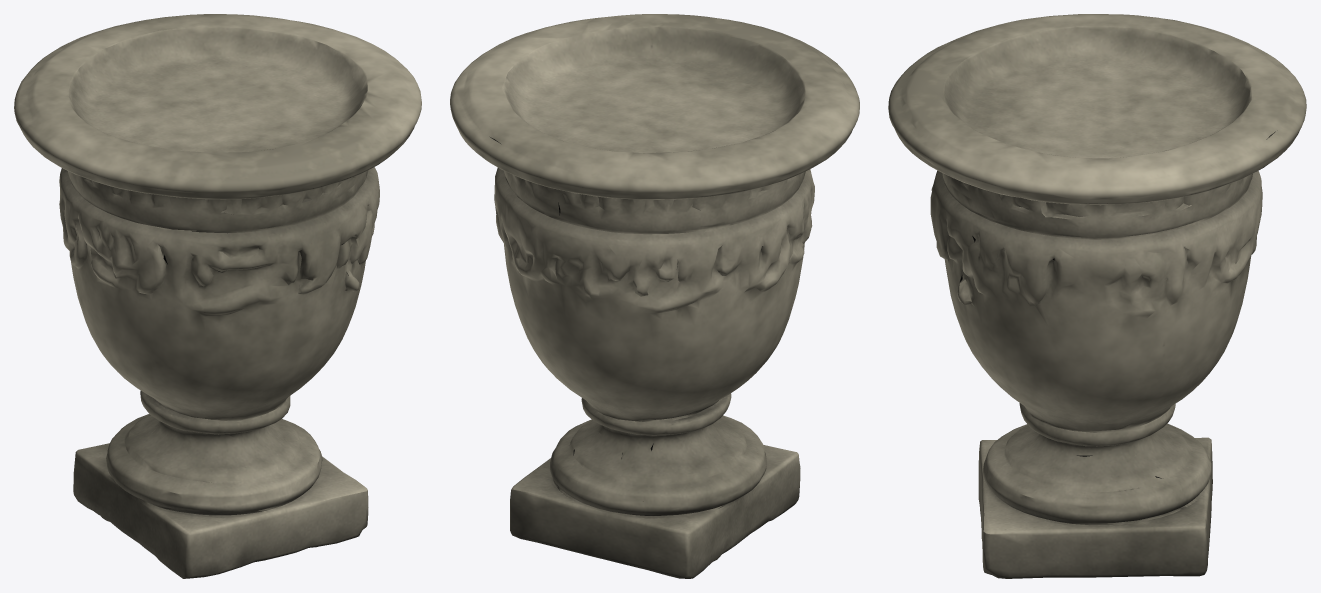
Rendered from limestone-planter-v006.glb.
3 renders of one model, left to right at view 1: azimuth 30°, elevation 25°; view 2: azimuth 150°, elevation 25°; view 3: azimuth 270°, elevation 25°, orthographic. The views are drawn at different scales.
Parts seen in each view (by area): view 1: limestone-planter; view 2: limestone-planter; view 3: limestone-planter.
Part boxes in pixels (x1,y1,x2,y2): limestone-planter: (14, 14, 421, 578); limestone-planter: (450, 14, 859, 578); limestone-planter: (888, 14, 1306, 578).
Bounding box in the file's own units: 0.4311 × 0.5 × 0.4297.
1 material, 1 textured.
